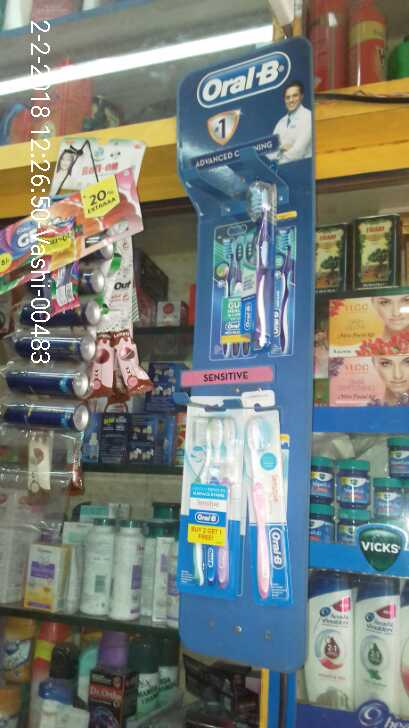beauty: (306, 577, 357, 710), (362, 579, 407, 714)
pharmacy: (308, 438, 408, 561), (183, 403, 245, 598), (242, 178, 286, 360), (250, 424, 287, 606)
